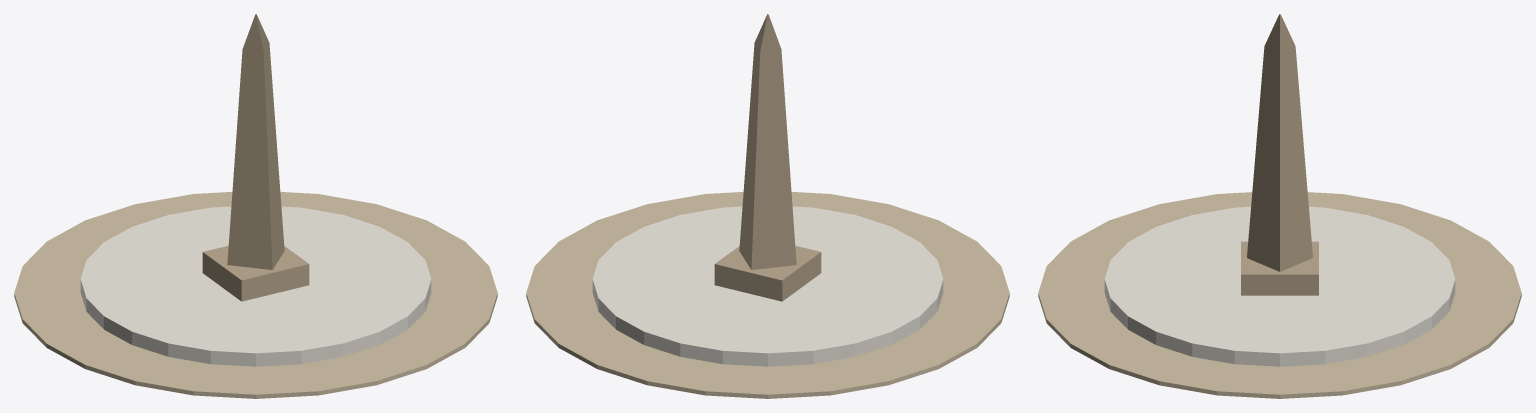
File: rb_ponton_obelisk.glb
The picture shows the model from 3 angles, left to right: view 1: azimuth 30°, elevation 25°; view 2: azimuth 150°, elevation 25°; view 3: azimuth 270°, elevation 25°; orthographic projection.
Visible parts, largest first — view 1: rb_ponton_obelisk_lod0; view 2: rb_ponton_obelisk_lod0; view 3: rb_ponton_obelisk_lod0.
Boxes of the visible parts, left/top/right/bottom form: rb_ponton_obelisk_lod0: left=14, top=14, right=497, bottom=398; rb_ponton_obelisk_lod0: left=526, top=14, right=1009, bottom=398; rb_ponton_obelisk_lod0: left=1038, top=14, right=1521, bottom=398.
Size of what is drawn, in the model's own units: 12.4 by 8.65 by 12.4.
